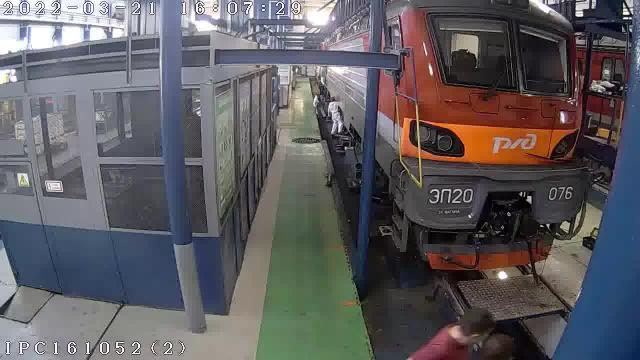person: (408, 309, 495, 359), (479, 334, 514, 359), (328, 97, 343, 135), (313, 95, 321, 118)
train: (375, 0, 588, 269)
